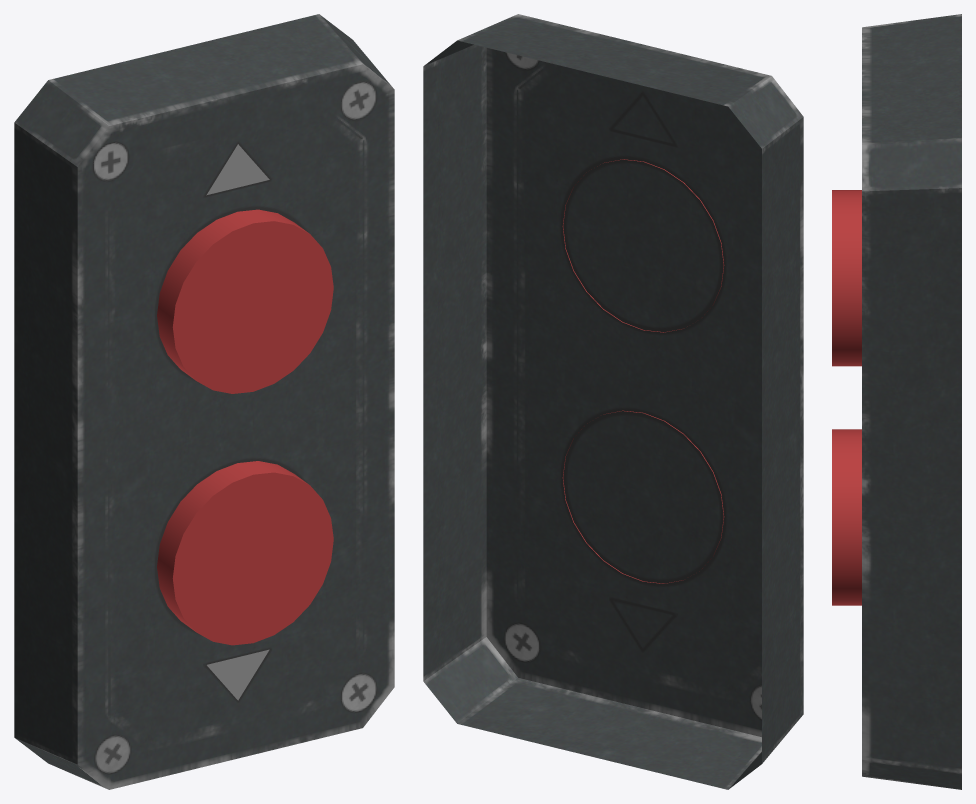
The model's file is Button_02.FBX.
The picture shows the model from 3 angles, left to right: view 1: azimuth 30°, elevation 25°; view 2: azimuth 150°, elevation 25°; view 3: azimuth 270°, elevation 25°; orthographic projection. The views are drawn at different scales.
Visible parts, largest first — view 1: body, buttonUp, buttonDown, down, up; view 2: body; view 3: body, buttonUp, buttonDown.
Boxes of the visible parts, x1,y1,x2,y2 form: body: (14,14,394,789); buttonUp: (157,209,333,393); buttonDown: (157,461,333,645); down: (207,649,269,700); up: (206,144,269,195); body: (423,14,803,789); body: (862,14,961,789); buttonUp: (832,190,861,366); buttonDown: (832,429,861,605).
Bounding box in the file's own units: 0.142 × 0.2736 × 0.0495.
